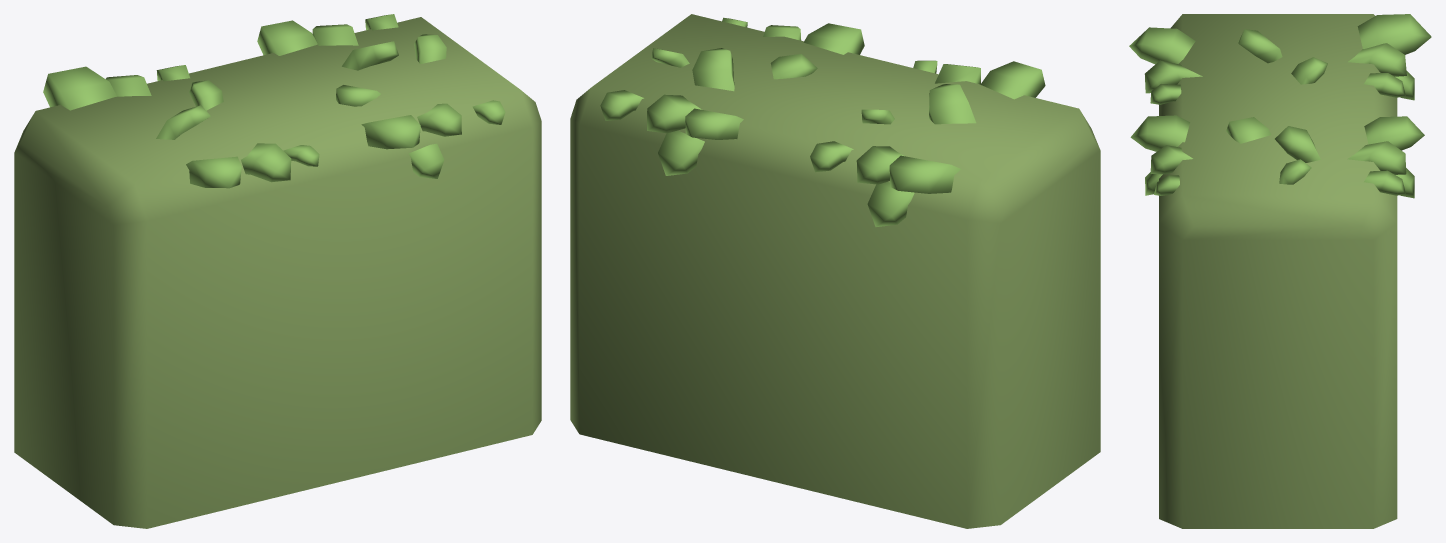
The model's file is guanmu01.FBX.
3 renders of one model, left to right at view 1: azimuth 30°, elevation 25°; view 2: azimuth 150°, elevation 25°; view 3: azimuth 270°, elevation 25°, orthographic. The views are drawn at different scales.
Visible parts, largest first — view 1: guanmu01; view 2: guanmu01; view 3: guanmu01.
Boxes of the visible parts, box(x1,y1,x2,y2) form: guanmu01: box(14, 14, 541, 528); guanmu01: box(570, 14, 1100, 528); guanmu01: box(1129, 14, 1431, 528).
Bounding box in the file's own units: 100 × 81.02 × 63.69.
